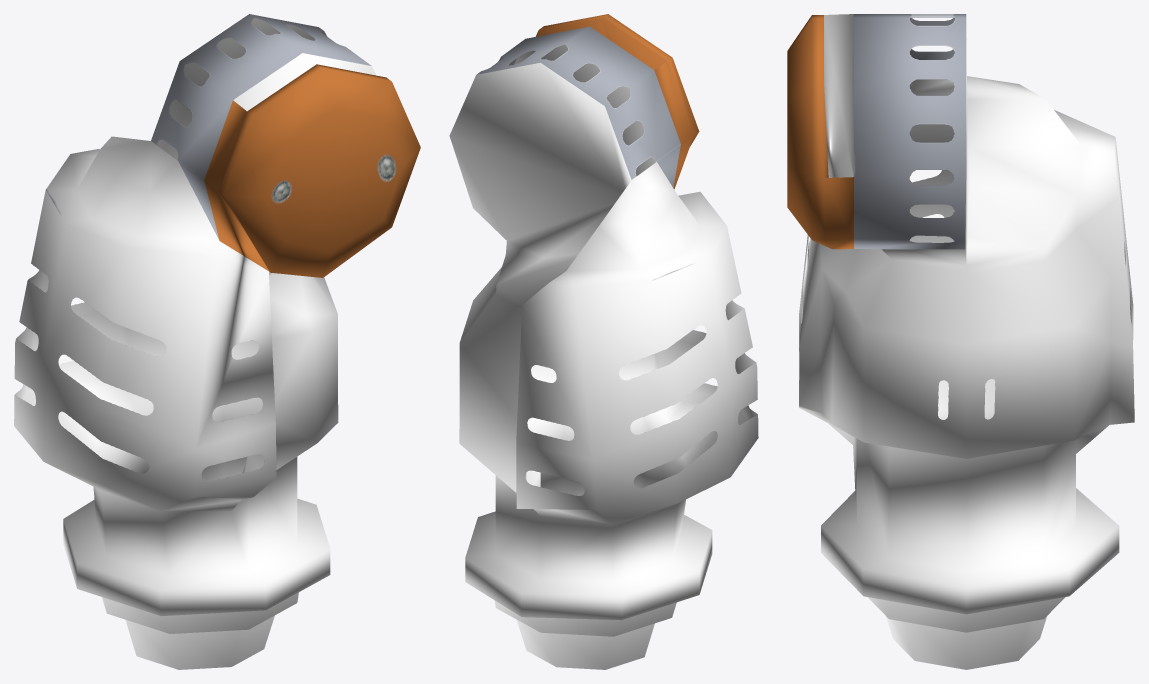
Rendered from aj3_left_texture.obj.
The picture shows the model from 3 angles, left to right: view 1: azimuth 30°, elevation 25°; view 2: azimuth 150°, elevation 25°; view 3: azimuth 270°, elevation 25°; orthographic projection. The views are drawn at different scales.
Bounding box in the file's own units: 0.1459 × 0.2818 × 0.137.
Materials: 1 (1 with a texture image).
